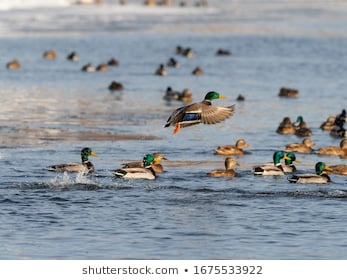duck: (159, 81, 242, 139), (42, 137, 106, 190), (110, 146, 169, 192)
